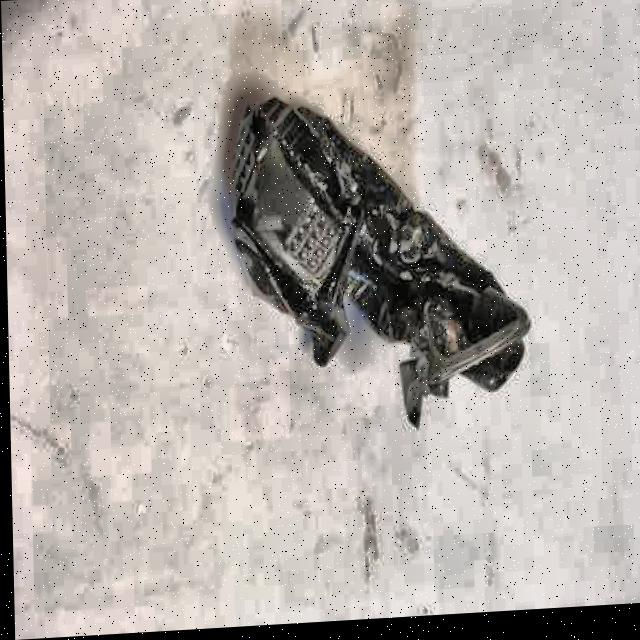plastic: (216, 72, 534, 459)
